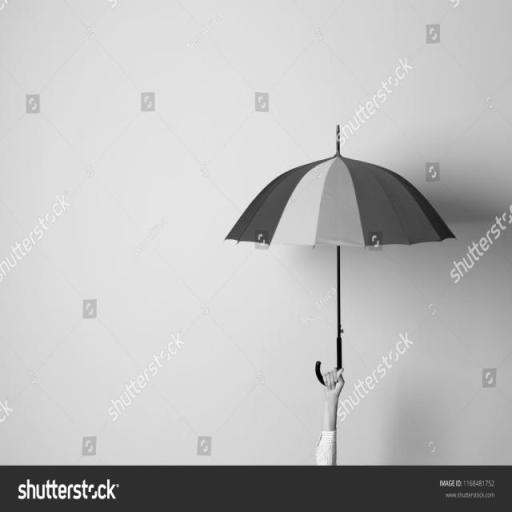guarda_chuva: (223, 123, 457, 386)
